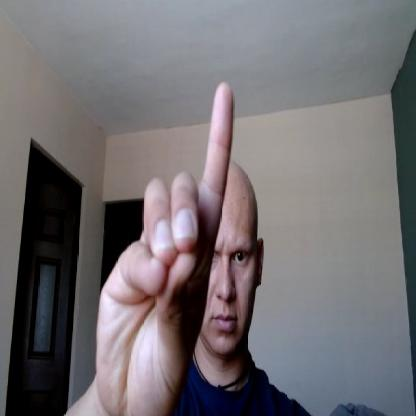D: (96, 83, 235, 415)
